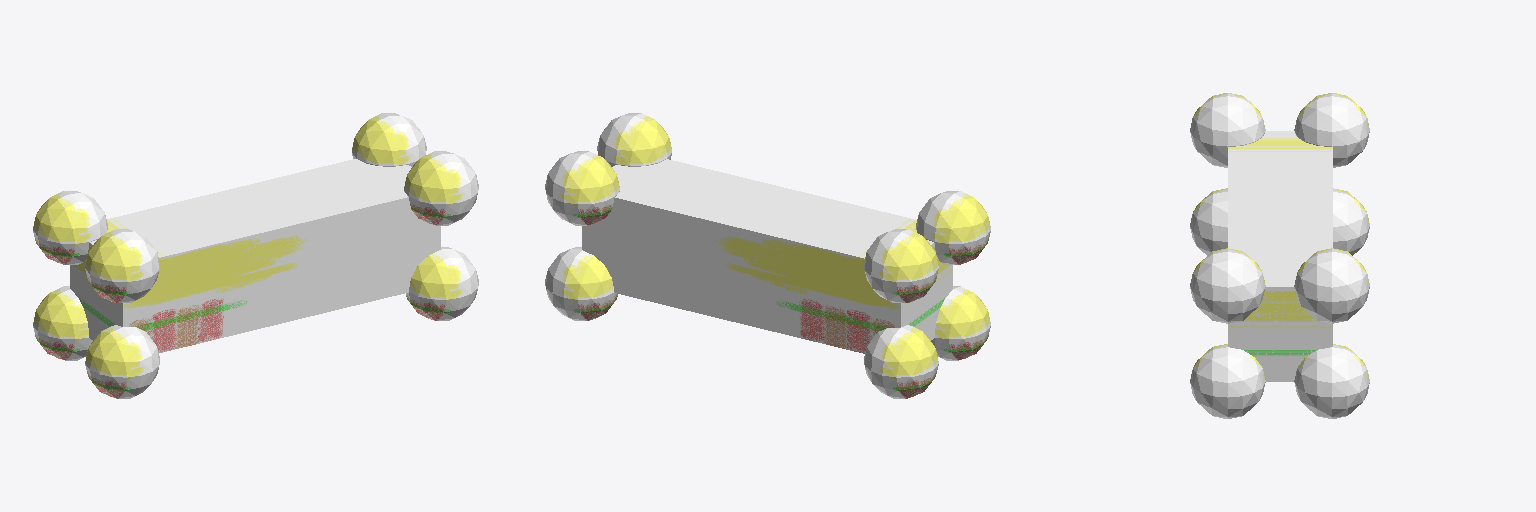
The picture shows the model from 3 angles: view 1: azimuth 30°, elevation 25°; view 2: azimuth 150°, elevation 25°; view 3: azimuth 270°, elevation 25°; orthographic projection.
Visible parts, largest first — view 1: Cube_2, Sphere_1_6, Sphere_1_5, Sphere_1_7, Sphere_1_1, Sphere_1_4, Sphere_1, Sphere_1_2; view 2: Cube_2, Sphere_1_1, Sphere_1_2, Sphere_1, Sphere_1_6, Sphere_1_3, Sphere_1_7, Sphere_1_5; view 3: Cube_2, Sphere_1_2, Sphere_1_5, Sphere_1_4, Sphere_1_3, Sphere_1_6, Sphere_1_1, Sphere_1_7, Sphere_1.
Boxes of the visible parts, box(x1,y1,x2,y2) form: Cube_2: box(70, 159, 440, 352); Sphere_1_6: box(85, 229, 159, 302); Sphere_1_5: box(404, 151, 478, 225); Sphere_1_7: box(85, 325, 159, 398); Sphere_1_1: box(33, 191, 107, 264); Sphere_1_4: box(406, 247, 478, 320); Sphere_1: box(33, 286, 92, 360); Sphere_1_2: box(352, 113, 426, 166); Cube_2: box(582, 159, 952, 353); Sphere_1_1: box(864, 229, 938, 302); Sphere_1_2: box(545, 151, 619, 225); Sphere_1: box(864, 325, 938, 398); Sphere_1_6: box(916, 191, 990, 264); Sphere_1_3: box(545, 247, 617, 320); Sphere_1_7: box(931, 286, 990, 360); Sphere_1_5: box(597, 113, 671, 166); Cube_2: box(1228, 131, 1332, 381); Sphere_1_2: box(1294, 248, 1369, 323); Sphere_1_5: box(1190, 248, 1265, 323); Sphere_1_4: box(1190, 344, 1265, 418); Sphere_1_3: box(1294, 344, 1369, 418); Sphere_1_6: box(1190, 93, 1265, 167); Sphere_1_1: box(1294, 93, 1369, 167); Sphere_1_7: box(1190, 188, 1227, 255); Sphere_1: box(1333, 188, 1369, 255).
Size of the model in its own units: 4.68 by 1.91 by 1.9.
Materials: 2 (1 with a texture image).